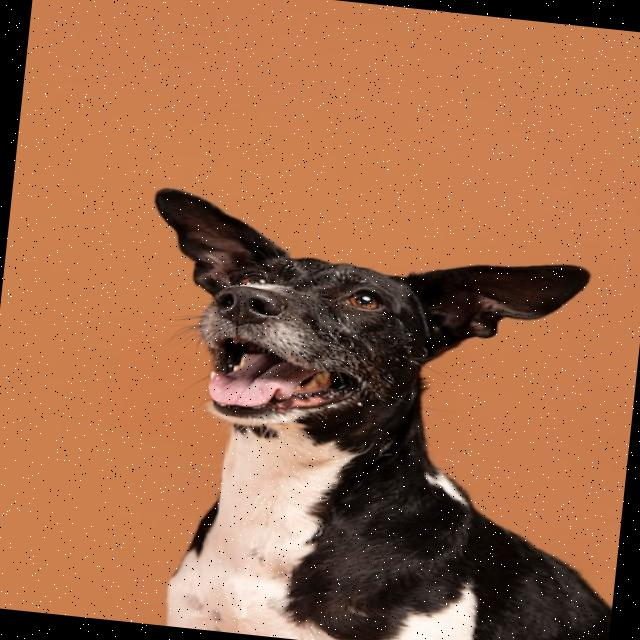Dog: (111, 186, 640, 640)
